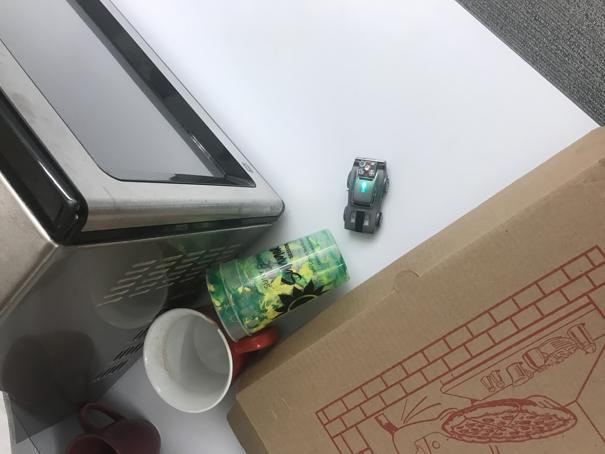Charger: (342, 156, 391, 238)
